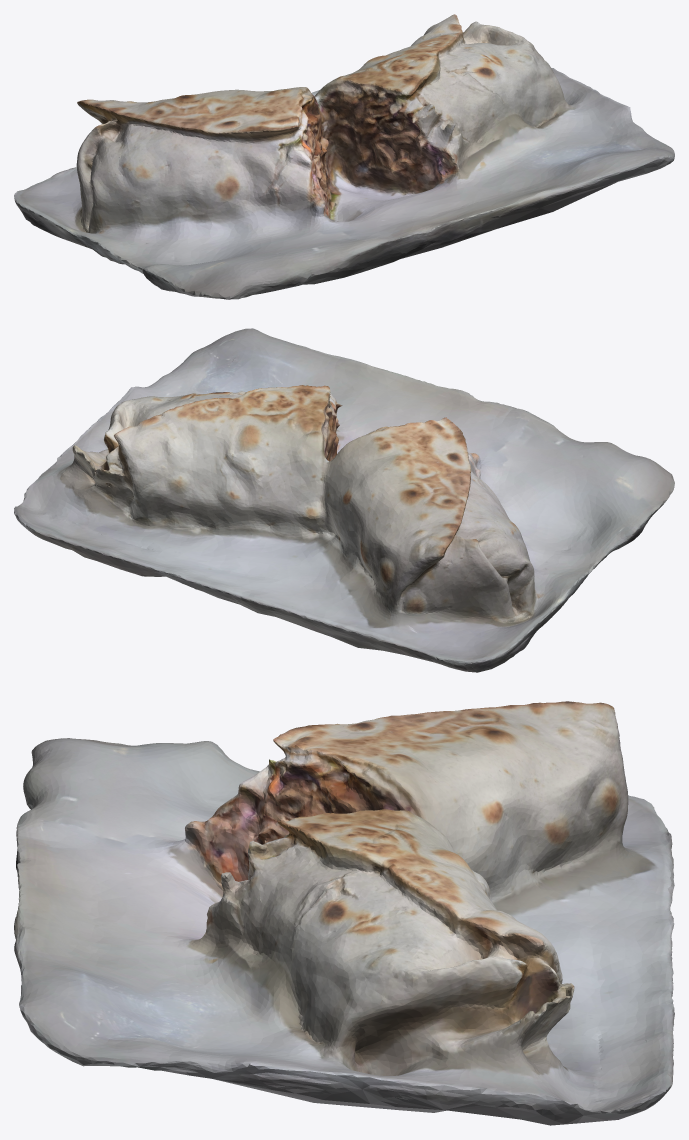
Rendered from Kebab Fladenbrot.glb.
3 views of the same model, one above another, from view 1: azimuth 30°, elevation 25°; view 2: azimuth 150°, elevation 25°; view 3: azimuth 270°, elevation 25° (orthographic). The views are drawn at different scales.
Size of the model in its own units: 1.42 by 0.4131 by 1.07.
1 material, 1 textured.
